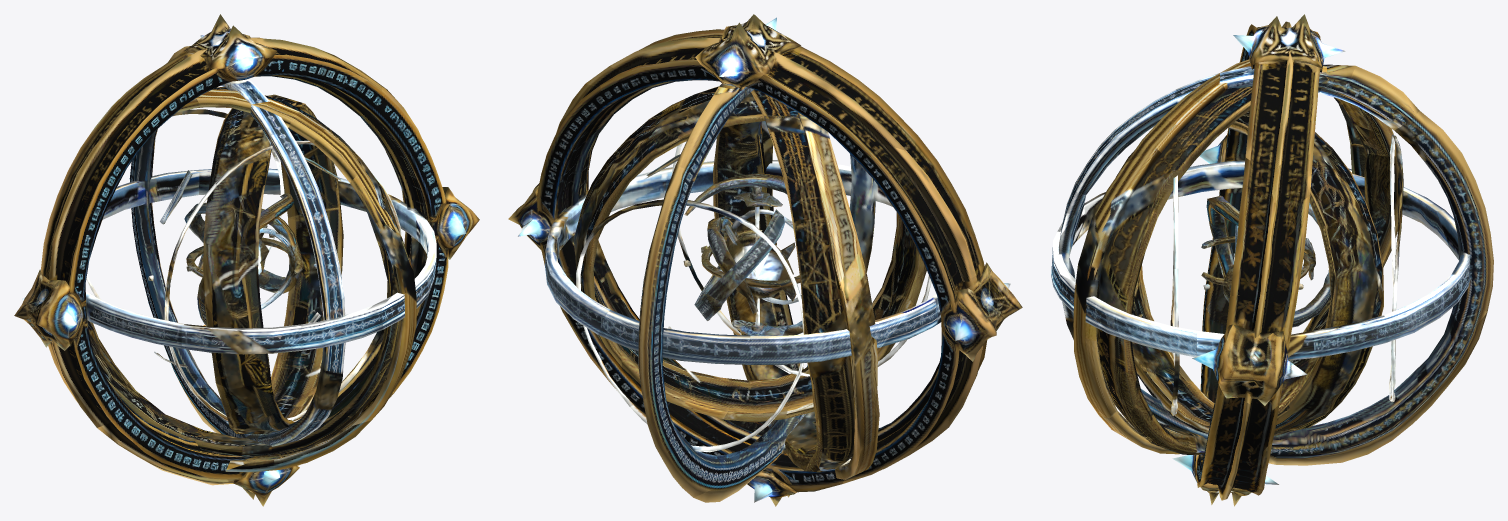
File: asterion_sphere.glb
The picture shows the model from 3 angles, left to right: view 1: azimuth 30°, elevation 25°; view 2: azimuth 150°, elevation 25°; view 3: azimuth 270°, elevation 25°; orthographic projection. The views are drawn at different scales.
Parts seen in each view (by area): view 1: master_ring1, inner_ring2, inner_ring3, master_ring2, inner_ring1, vertical_ring1, srodek-spirala, srodek-ring1, srodek_fragmenty, srodek_kowadlo, vertical_ring2, srodek-ring2; view 2: master_ring1, inner_ring3, inner_ring2, master_ring2, inner_ring1, srodek-spirala, srodek, vertical_ring2, srodek-ring1, vertical_ring1, srodek_kowadlo; view 3: master_ring1, inner_ring3, master_ring2, inner_ring2, inner_ring1, vertical_ring2, srodek-ring1, srodek-spirala, vertical_ring1, srodek_kowadlo.
Part boxes in pixels (box(x1,y1,x2,y2)): master_ring1: box(14, 14, 479, 506); inner_ring2: box(203, 94, 343, 434); inner_ring3: box(87, 87, 416, 472); master_ring2: box(129, 46, 345, 446); inner_ring1: box(85, 168, 436, 354); vertical_ring1: box(164, 140, 401, 421); srodek-spirala: box(184, 202, 302, 293); srodek-ring1: box(197, 193, 294, 325); srodek_fragmenty: box(148, 157, 341, 367); srodek_kowadlo: box(186, 234, 303, 277); vertical_ring2: box(86, 109, 284, 326); srodek-ring2: box(259, 228, 291, 309); master_ring1: box(508, 14, 1022, 506); inner_ring3: box(713, 89, 879, 479); inner_ring2: box(573, 86, 926, 422); master_ring2: box(638, 84, 875, 502); inner_ring1: box(545, 160, 941, 364); srodek-spirala: box(694, 209, 784, 320); srodek: box(725, 185, 796, 331); vertical_ring2: box(576, 199, 803, 452); srodek-ring1: box(684, 173, 802, 335); vertical_ring1: box(671, 143, 931, 376); srodek_kowadlo: box(683, 229, 800, 288); master_ring1: box(1172, 14, 1345, 506); inner_ring3: box(1073, 59, 1398, 454); master_ring2: box(1059, 64, 1493, 465); inner_ring2: box(1116, 111, 1383, 435); inner_ring1: box(1051, 160, 1470, 360); vertical_ring2: box(1389, 134, 1403, 401); srodek-ring1: box(1206, 196, 1239, 278); srodek-spirala: box(1223, 202, 1330, 327); vertical_ring1: box(1170, 175, 1179, 416); srodek_kowadlo: box(1201, 236, 1310, 289).
Size of the model in its own units: 1 by 1 by 0.8145.
1 material, 1 textured.
